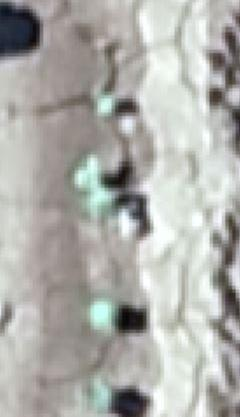cotton: (75, 158, 102, 189), (92, 300, 116, 326), (88, 187, 112, 211), (94, 383, 114, 409), (98, 95, 113, 114)
